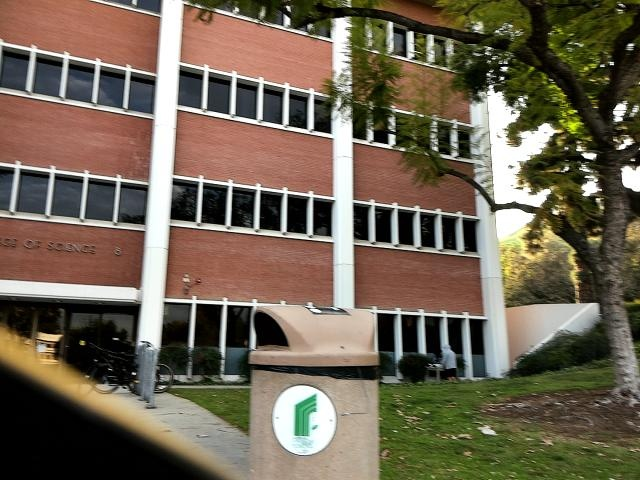trashcan: (211, 295, 404, 480)
